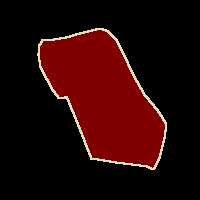tie: (38, 28, 166, 169)
